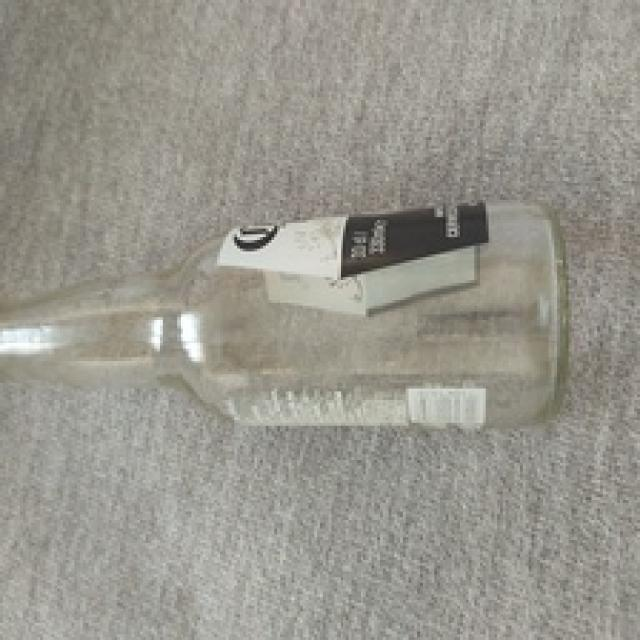Glass: (0, 201, 566, 427)
